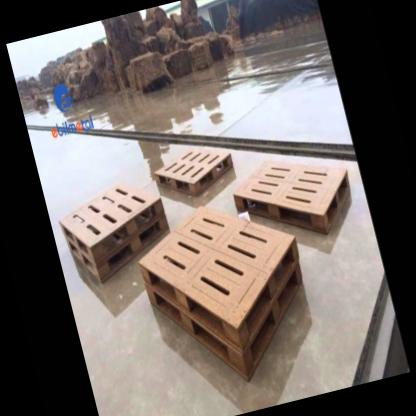BoxFace: (231, 157, 354, 236)
